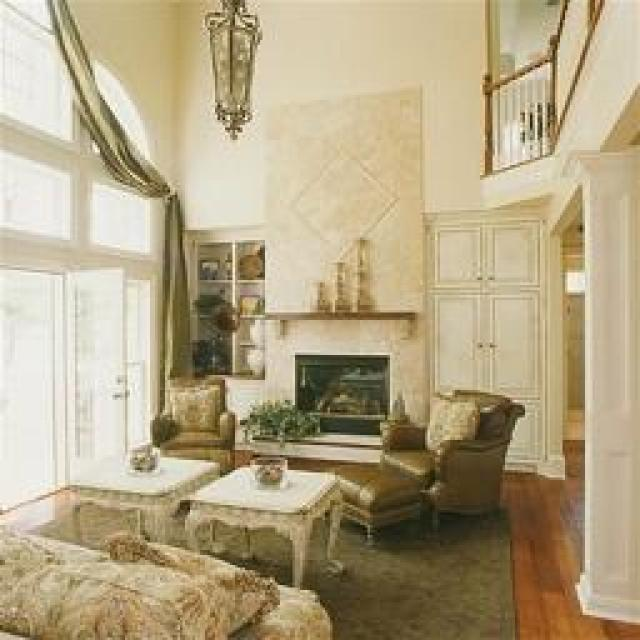carpet: (18, 492, 518, 638)
chair: (150, 375, 235, 475)
cupboard: (422, 210, 548, 475)
pillows: (422, 398, 480, 450)
plants: (238, 395, 320, 443)
pots: (248, 455, 288, 485)
shelves: (187, 238, 265, 378)
table: (180, 462, 342, 588)
windows: (0, 0, 170, 520)
